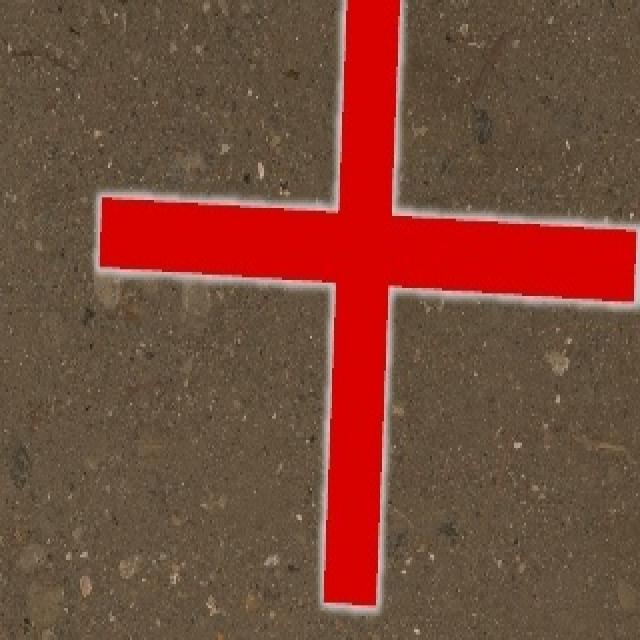x_marker: (97, 0, 635, 608)
